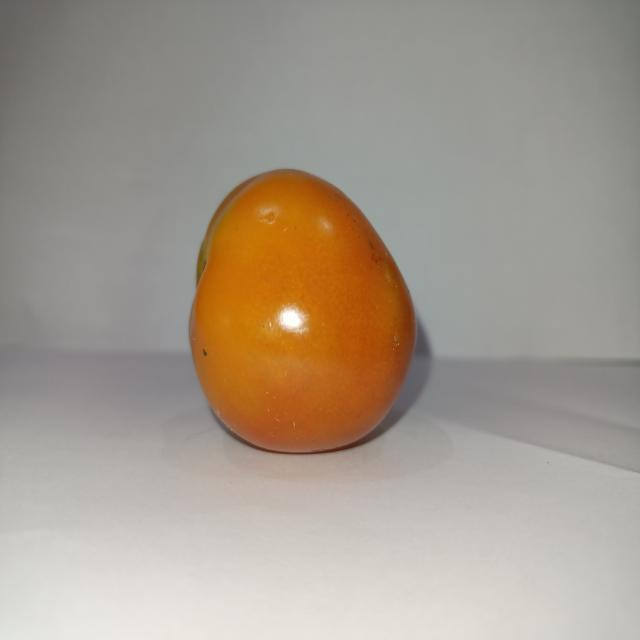Red: (187, 166, 417, 454)
